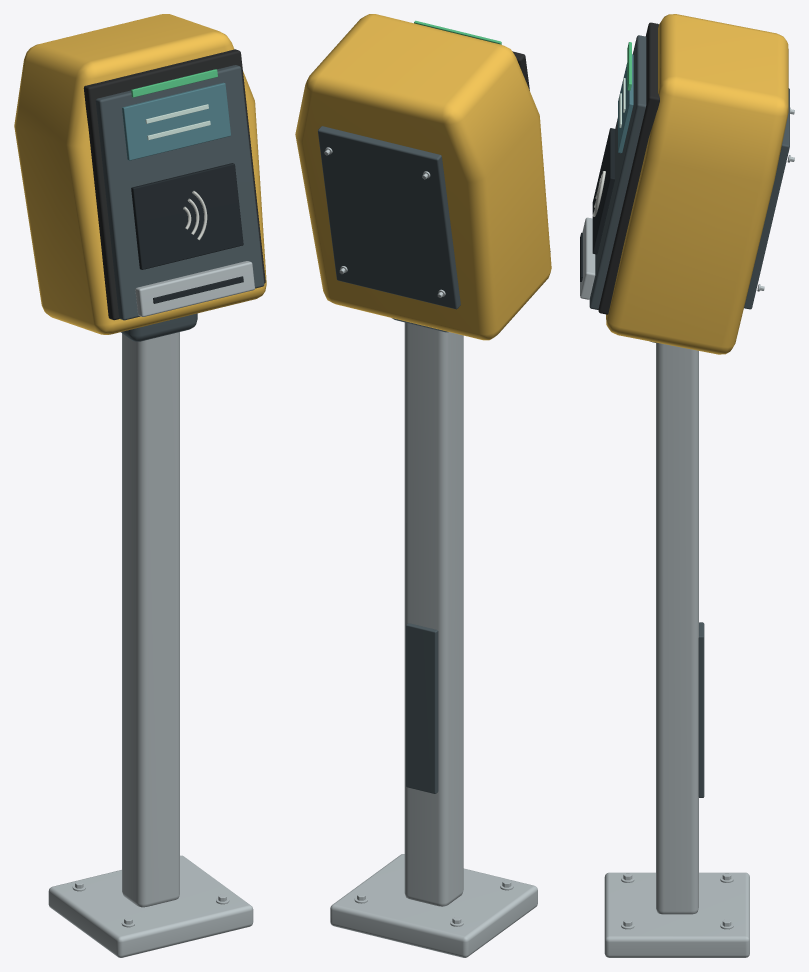
Rendered from city-ticket-validator.glb.
3 views of the same model, side by side, from view 1: azimuth 30°, elevation 25°; view 2: azimuth 150°, elevation 25°; view 3: azimuth 270°, elevation 25° (orthographic).
Parts seen in each view (by area): view 1: Slim mounting column, Validator asymmetric housing, Validator reader face, Validator base plate, Tap target, Validator face gasket, Validation display, Ticket feed bezel, Upper bracket, Status indicator bar, Ticket feed opening; view 2: Validator asymmetric housing, Slim mounting column, Rear maintenance hatch, Validator base plate, Column service cover; view 3: Validator asymmetric housing, Slim mounting column, Validator base plate, Validator reader face, Validator face gasket, Rear maintenance hatch, Tap target, Column service cover, Ticket feed bezel, Validation display.
Boxes of the visible parts, x1,y1,x2,y2 form: Slim mounting column: [122, 332, 179, 907]; Validator asymmetric housing: [14, 14, 266, 334]; Validator reader face: [95, 65, 264, 320]; Validator base plate: [48, 855, 253, 957]; Tap target: [131, 163, 243, 269]; Validator face gasket: [83, 49, 265, 320]; Validation display: [122, 82, 230, 160]; Ticket feed bezel: [135, 261, 254, 316]; Upper bracket: [121, 313, 197, 341]; Status indicator bar: [131, 69, 217, 97]; Ticket feed opening: [153, 276, 243, 303]; Validator asymmetric housing: [295, 14, 551, 340]; Slim mounting column: [404, 322, 463, 906]; Rear maintenance hatch: [317, 126, 460, 309]; Validator base plate: [330, 854, 537, 957]; Column service cover: [406, 623, 438, 793]; Validator asymmetric housing: [606, 14, 788, 354]; Slim mounting column: [656, 343, 698, 914]; Validator base plate: [604, 872, 749, 957]; Validator reader face: [589, 35, 646, 309]; Validator face gasket: [598, 22, 659, 314]; Rear maintenance hatch: [744, 88, 789, 309]; Tap target: [592, 128, 614, 254]; Column service cover: [698, 622, 704, 797]; Ticket feed bezel: [580, 217, 595, 299]; Validation display: [618, 54, 633, 153].
Bounding box in the file's own units: 0.33 × 1.47 × 0.325.
